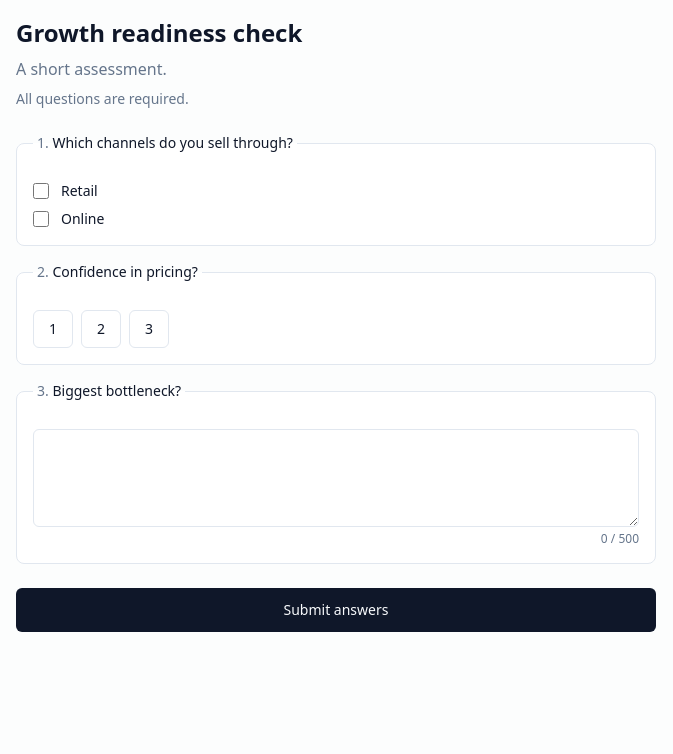
it: PublicQuestionnairePage › explains a rate limit
The width and height of the screenshot is (673, 754).
Expected: the heading "Growth readiness check" is shown, x1=16 y1=16 x2=302 y2=49
Click the checkbox labelled "Online" at (41, 219), box x1=33 y1=211 x2=49 y2=227
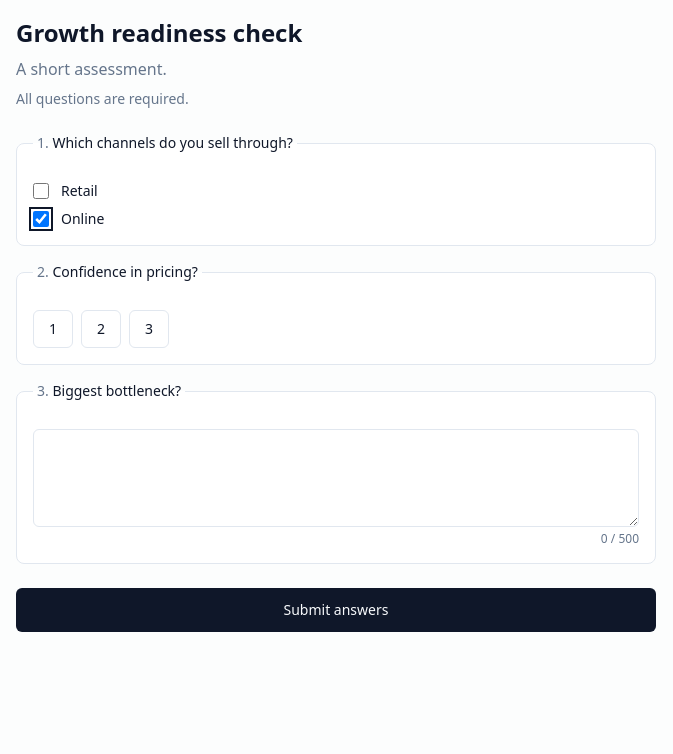
Click the radio button labelled "2" at (101, 329), box x1=81 y1=310 x2=121 y2=348
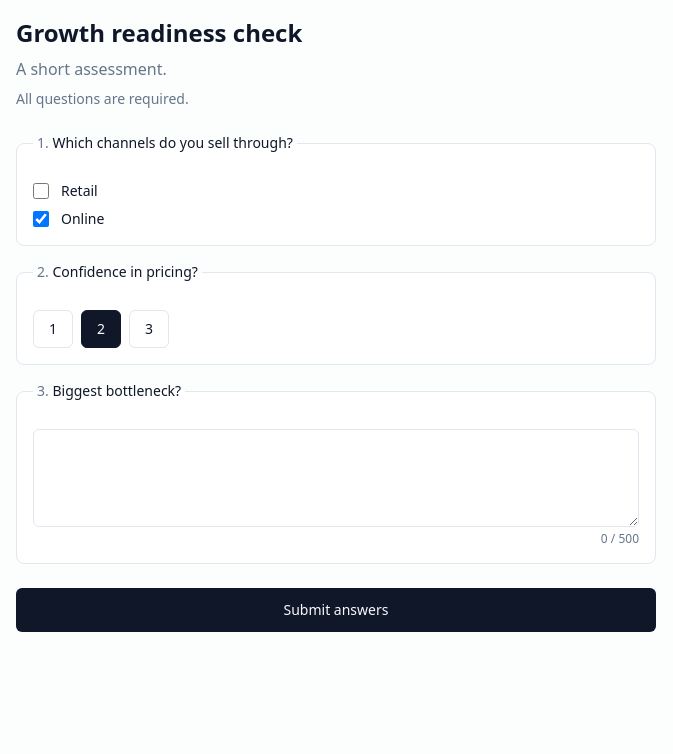
Type "Hiring is slow." into the text box at (336, 478), box x1=33 y1=429 x2=639 y2=527
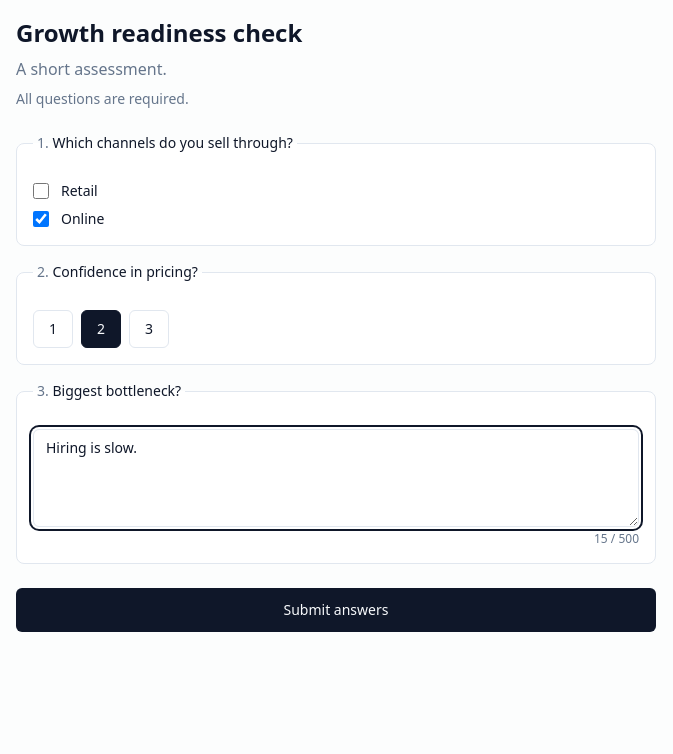
Click the button "Submit answers" at (336, 610), box x1=16 y1=588 x2=656 y2=632
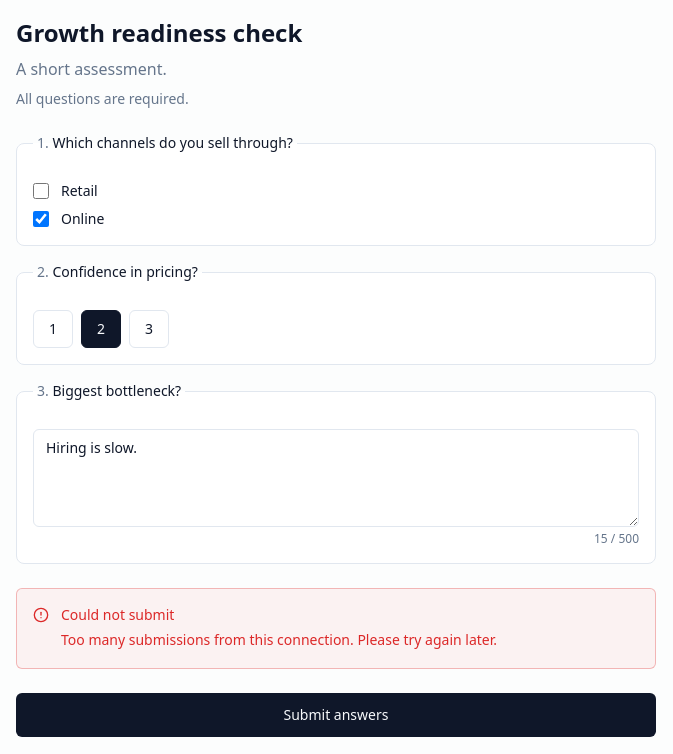
Expected: the text "Too many submissions" is shown, x1=61 y1=630 x2=497 y2=649
